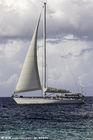fanchuan: (10, 1, 86, 110)
